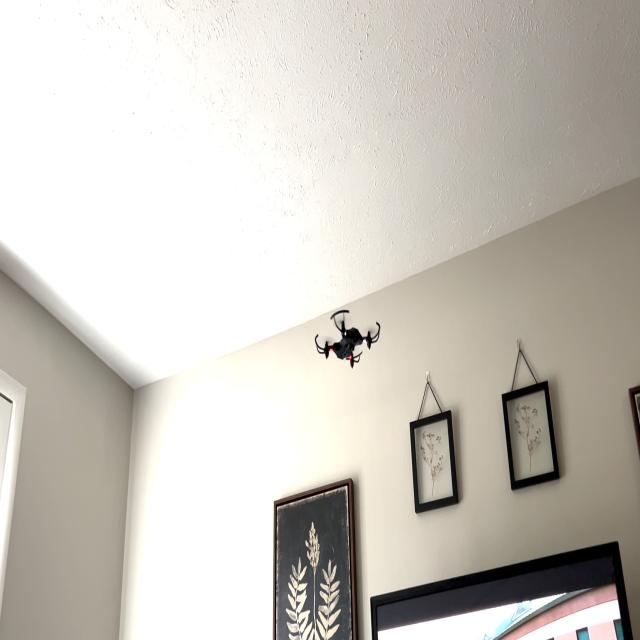drone: (304, 288, 389, 378)
